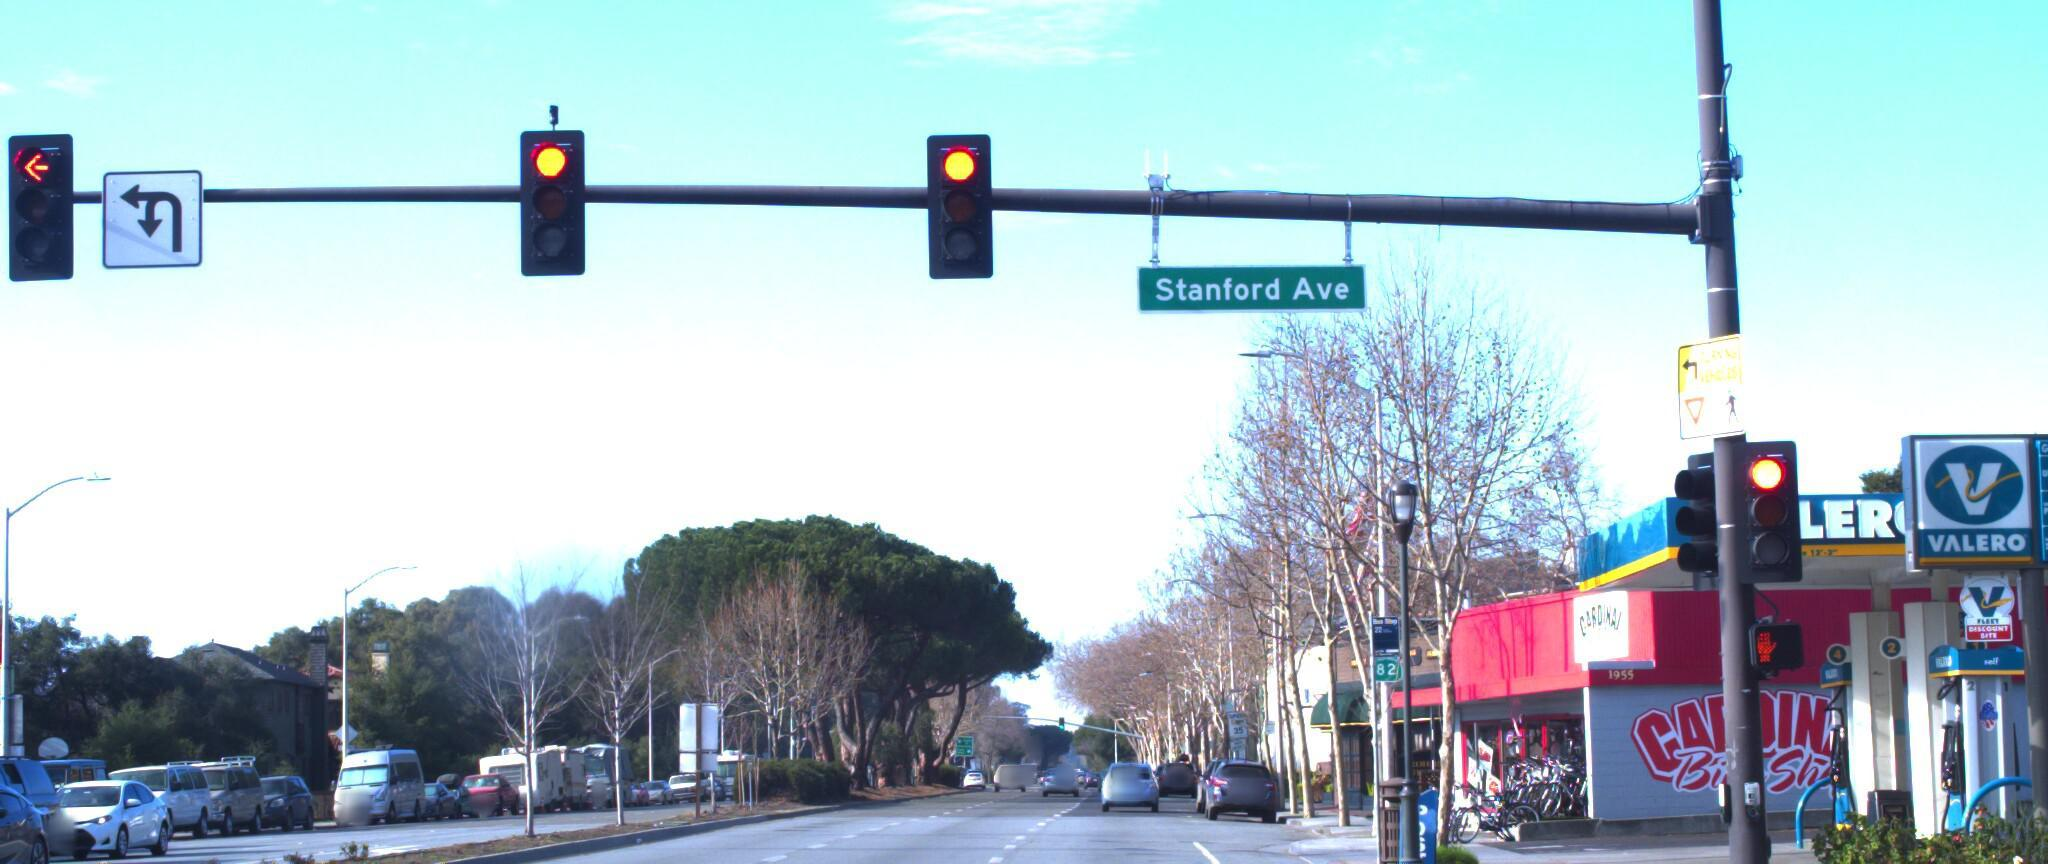bicycle: (1438, 770, 1526, 830), (1432, 770, 1519, 829)
car: (0, 769, 192, 864), (74, 747, 223, 837), (0, 769, 80, 864), (1198, 737, 1276, 812), (0, 760, 38, 864), (0, 723, 5, 864)
